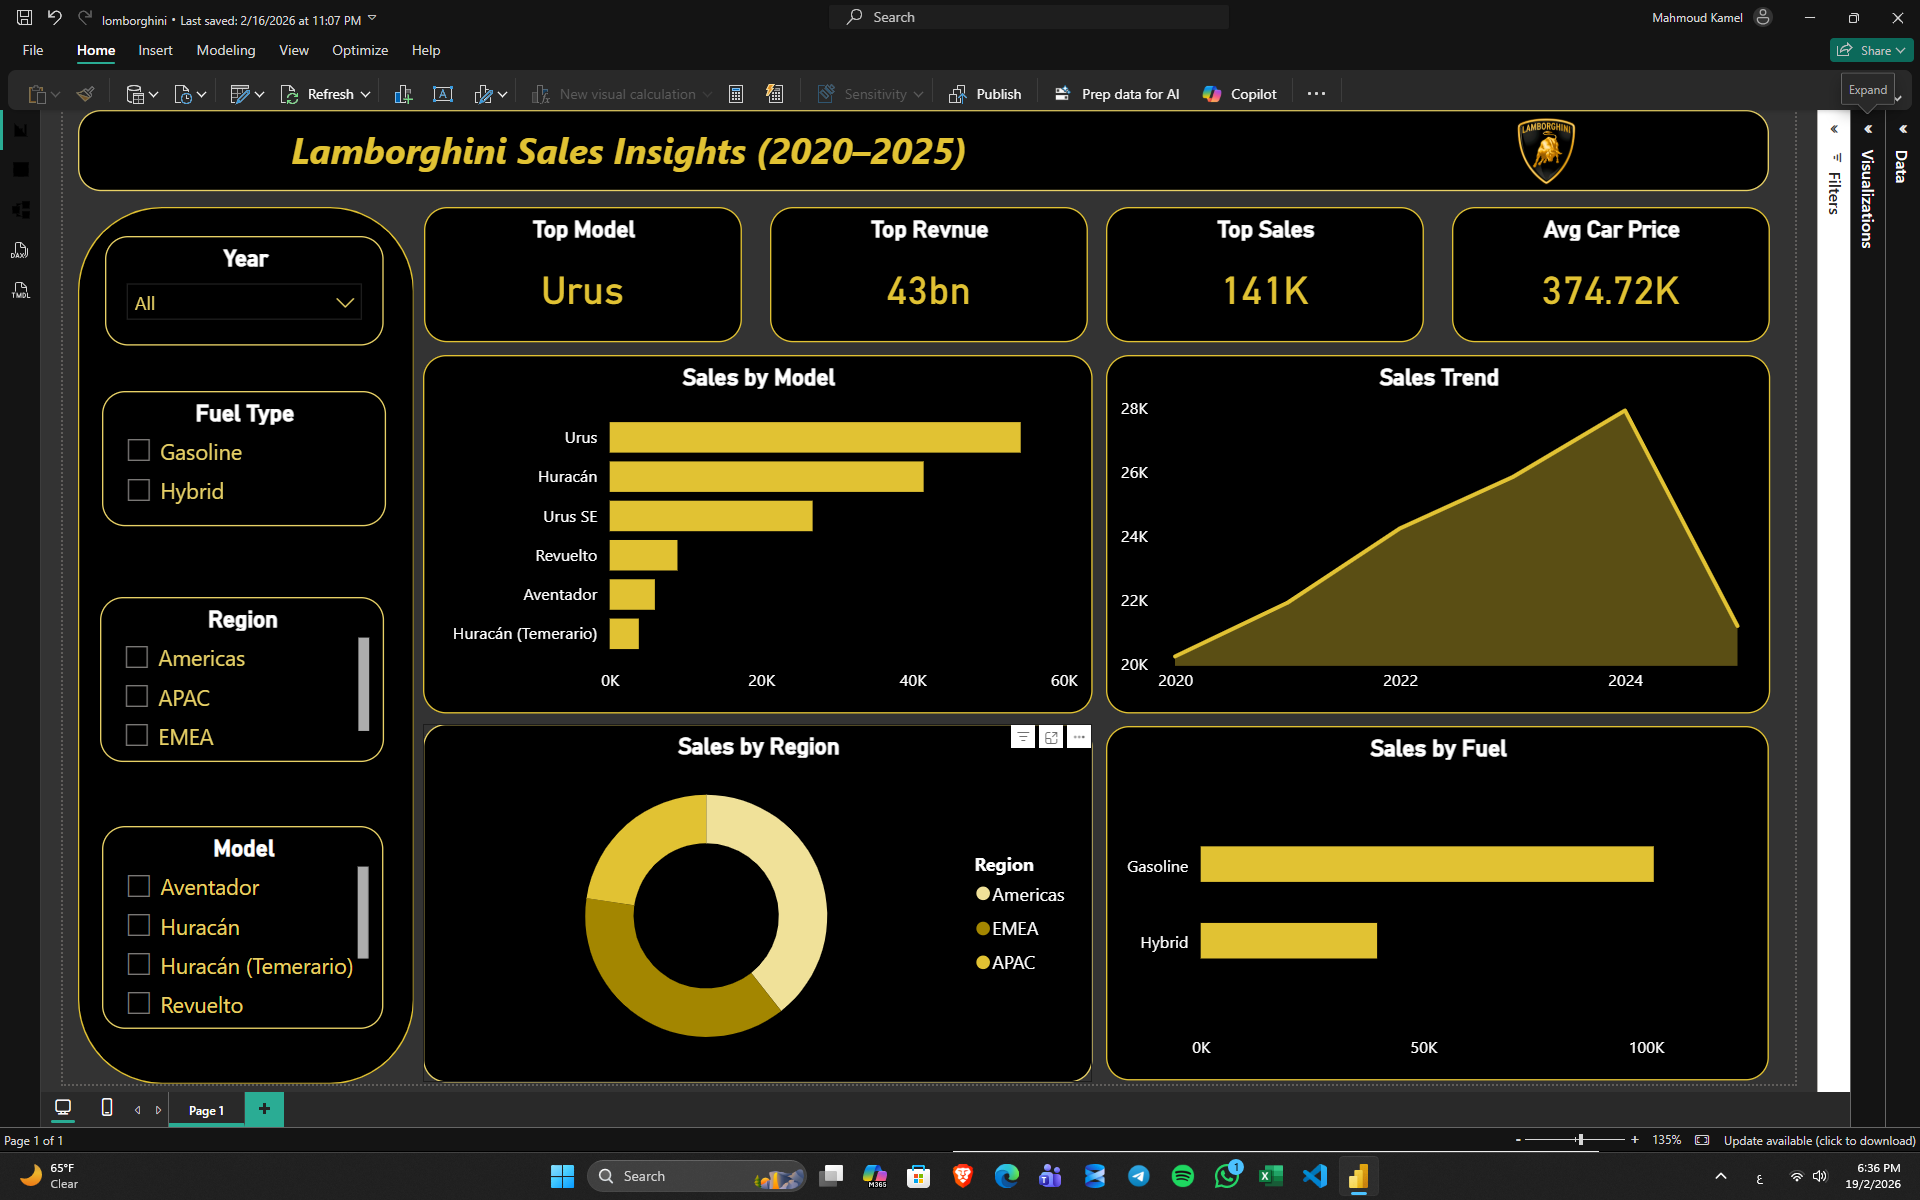

This screenshot's page, from the dashboard's own definition file:
{"tool":"powerbi","page":{"name":"Page 1","canvas":[1280,720],"ordinal":0},"visuals":[{"type":"textbox","box":[11,0,1250.2,60.5],"z":0},{"type":"shape","box":[11.1,71.7,248.4,648.3],"z":1000},{"type":"lineChart","title":"Sales Trend","fields":{"Y":["lamborghini_sales_2020_2025.Total Sales"],"Category":["lamborghini_sales_2020_2025.Year"]},"box":[771.1,181.1,490.8,264.8],"z":2000},{"type":"donutChart","title":"Sales by Region","fields":{"Category":["lamborghini_sales_2020_2025.Region"],"Y":["lamborghini_sales_2020_2025.Total Sales"]},"box":[266.3,453.7,494.7,264.7],"z":3000},{"type":"clusteredBarChart","title":"Sales by Model","fields":{"Category":["lamborghini_sales_2020_2025.Model"],"Y":["lamborghini_sales_2020_2025.Total Sales"]},"box":[266.3,181.2,494.7,264.7],"z":4000},{"type":"barChart","title":"Sales by Fuel","fields":{"Category":["lamborghini_sales_2020_2025.Fuel Type"],"Y":["lamborghini_sales_2020_2025.Total Sales"]},"box":[771.2,455.3,490,261.5],"z":5000},{"type":"slicer","title":"Region","fields":{"Values":["lamborghini_sales_2020_2025.Region"]},"box":[27.6,360,209.5,122.1],"z":6000},{"type":"slicer","title":"Model","fields":{"Values":["lamborghini_sales_2020_2025.Model"]},"box":[29.1,529.4,208,150.5],"z":7000},{"type":"slicer","title":"Year","fields":{"Values":["lamborghini_sales_2020_2025.Year"]},"box":[30.7,93,206.4,81.1],"z":8000},{"type":"slicer","title":"Fuel Type","fields":{"Values":["lamborghini_sales_2020_2025.Fuel Type"]},"box":[29.1,208,209.5,100],"z":9000},{"type":"image","box":[1005.3,4.4,179.6,51.7],"z":10000},{"type":"card","title":"Top Model","fields":{"Values":["lamborghini_sales_2020_2025.Top Model"]},"box":[266.5,71.6,234.6,100.1],"z":11000},{"type":"card","title":"Top Revnue","fields":{"Values":["lamborghini_sales_2020_2025.Total Revnue"]},"box":[522.7,71.6,234.6,100.1],"z":12000},{"type":"card","title":"Top Sales","fields":{"Values":["lamborghini_sales_2020_2025.Total Sales"]},"box":[771.1,71.6,234.6,100.1],"z":13000},{"type":"card","title":"Avg Car Price","fields":{"Values":["lamborghini_sales_2020_2025.avg"]},"box":[1026.4,71.6,234.6,100.1],"z":14000}]}

Visuals, with their boxes on the page's 1280x720 design canvas (x1, y1, x2, y2). These are canvas units, not pixel positions in the 1920x1200 screenshot, which may show the page scaled, cropped or inside an application window:
textbox: 11,0,1261,60
shape: 11,72,260,720
"Sales Trend" lineChart: 771,181,1262,446
"Sales by Region" donutChart: 266,454,761,718
"Sales by Model" clusteredBarChart: 266,181,761,446
"Sales by Fuel" barChart: 771,455,1261,717
"Region" slicer: 28,360,237,482
"Model" slicer: 29,529,237,680
"Year" slicer: 31,93,237,174
"Fuel Type" slicer: 29,208,239,308
image: 1005,4,1185,56
"Top Model" card: 266,72,501,172
"Top Revnue" card: 523,72,757,172
"Top Sales" card: 771,72,1006,172
"Avg Car Price" card: 1026,72,1261,172
